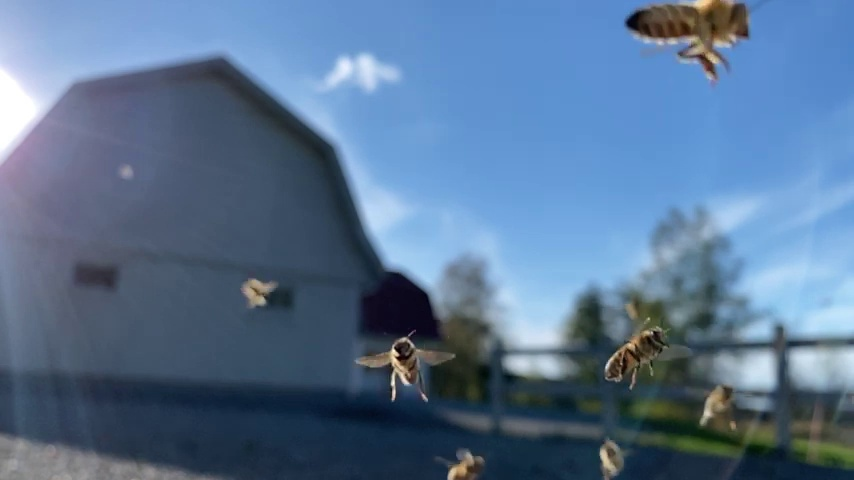insect: (623, 1, 749, 81), (353, 330, 450, 405), (597, 321, 693, 388), (697, 378, 733, 432), (599, 430, 629, 480), (436, 450, 485, 480)
